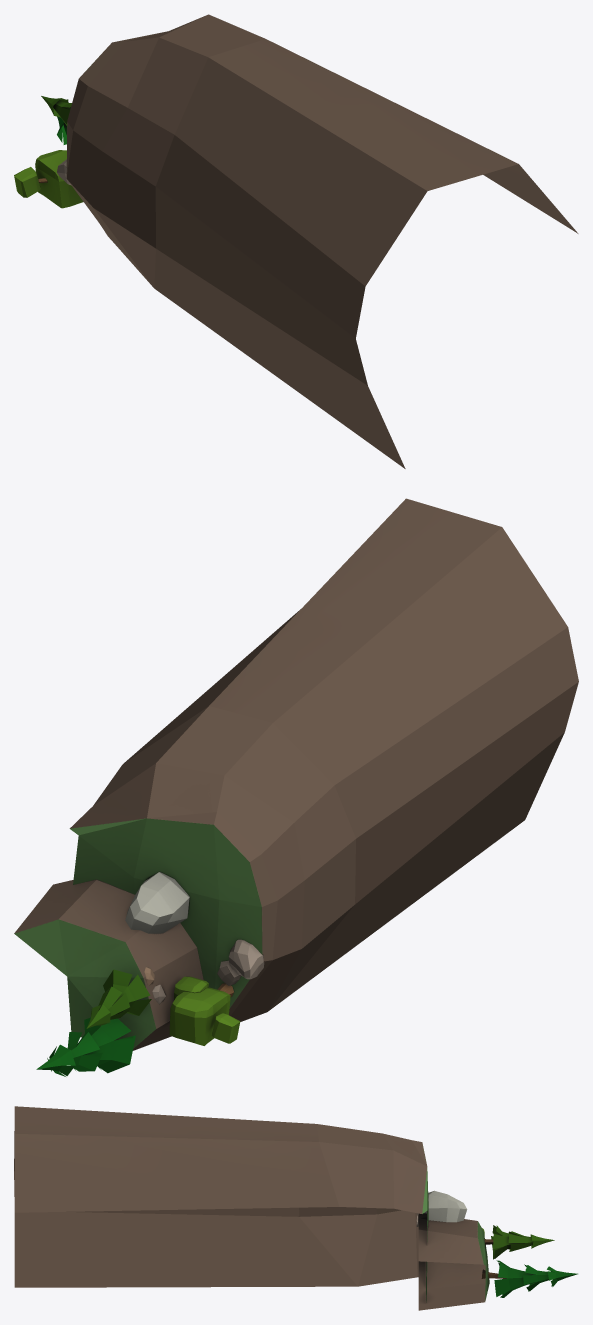
Rendered from Detalle_Derecha.FBX.
3 views of the same model, one above another, from view 1: azimuth 30°, elevation 25°; view 2: azimuth 150°, elevation 25°; view 3: azimuth 270°, elevation 25° (orthographic). The views are drawn at different scales.
Visible parts, largest first — view 1: Object005, Detalles_Derecha; view 2: Object005, Detalles_Derecha; view 3: Object005, Detalles_Derecha.
Boxes of the visible parts, x1,y1,x2,y2 form: Object005: (66, 14, 578, 468); Detalles_Derecha: (14, 96, 83, 208); Object005: (14, 498, 578, 1050); Detalles_Derecha: (36, 872, 264, 1076); Object005: (14, 1106, 489, 1310); Detalles_Derecha: (416, 1190, 577, 1297).
Size of the model in its own units: 298 by 343 by 913.
Materials: 2 (2 with a texture image).
